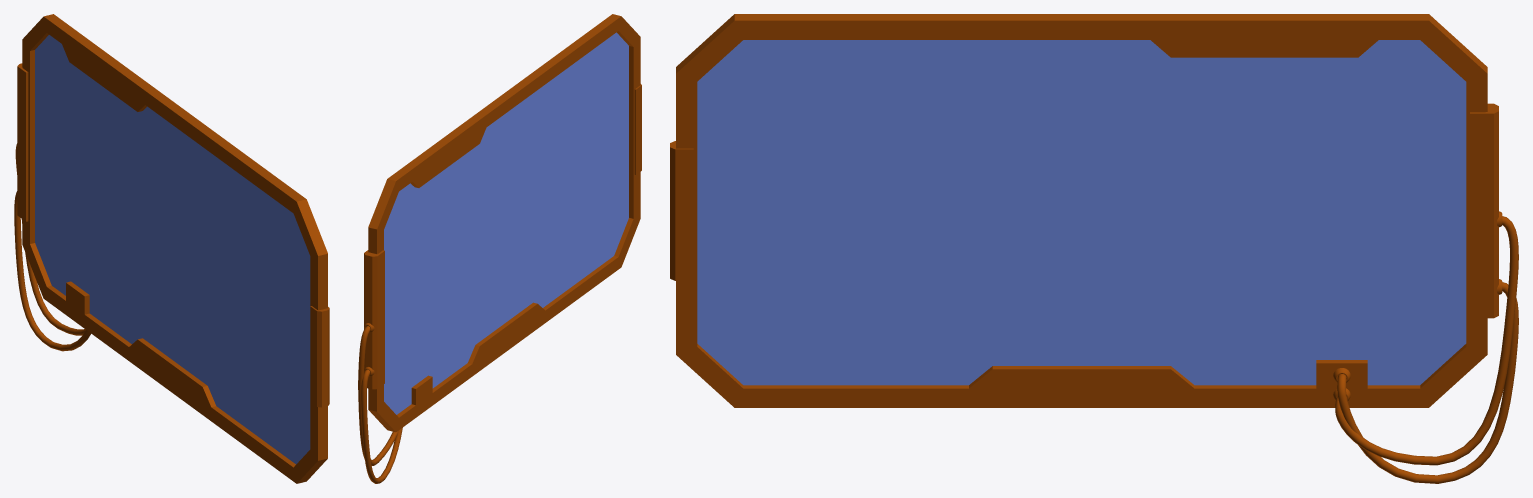
The model's file is ScreenScifi.fbx.
The picture shows the model from 3 angles, left to right: view 1: azimuth 30°, elevation 25°; view 2: azimuth 150°, elevation 25°; view 3: azimuth 270°, elevation 25°; orthographic projection. The views are drawn at different scales.
Parts seen in each view (by area): view 1: Flag_Flag.001, Flag_Pole; view 2: Flag_Flag.001, Flag_Pole; view 3: Flag_Flag.001, Flag_Pole.
Boxes of the visible parts, box(x1,y1,x2,y2) form: Flag_Flag.001: box(35, 35, 310, 464); Flag_Pole: box(14, 14, 329, 483); Flag_Flag.001: box(384, 32, 628, 414); Flag_Pole: box(358, 14, 641, 483); Flag_Flag.001: box(697, 40, 1466, 385); Flag_Pole: box(670, 14, 1518, 483).
Bounding box in the file's own units: 13.2 × 149 × 248.
